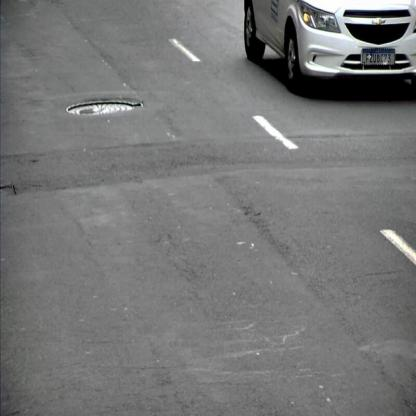PlacaM: (362, 49, 394, 65)
